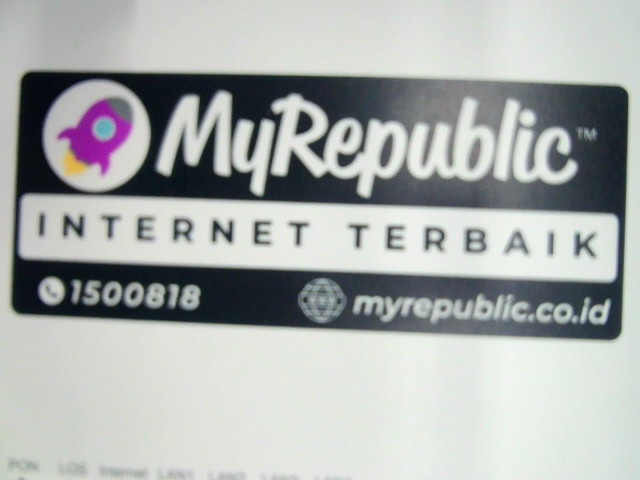BD_MyRepublic: (13, 71, 633, 339)
